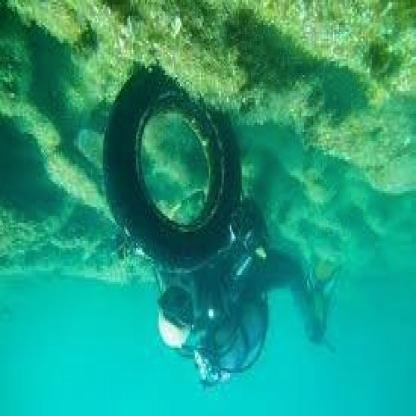tire: (104, 57, 248, 280)
